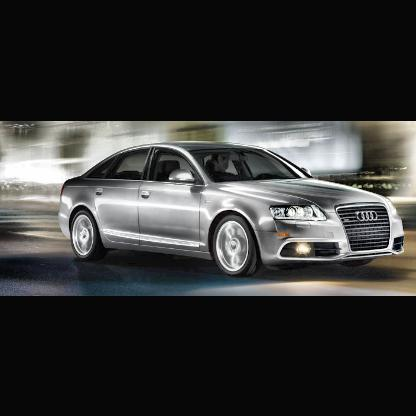Audi S6 Sedan 2011: (58, 140, 407, 276)
